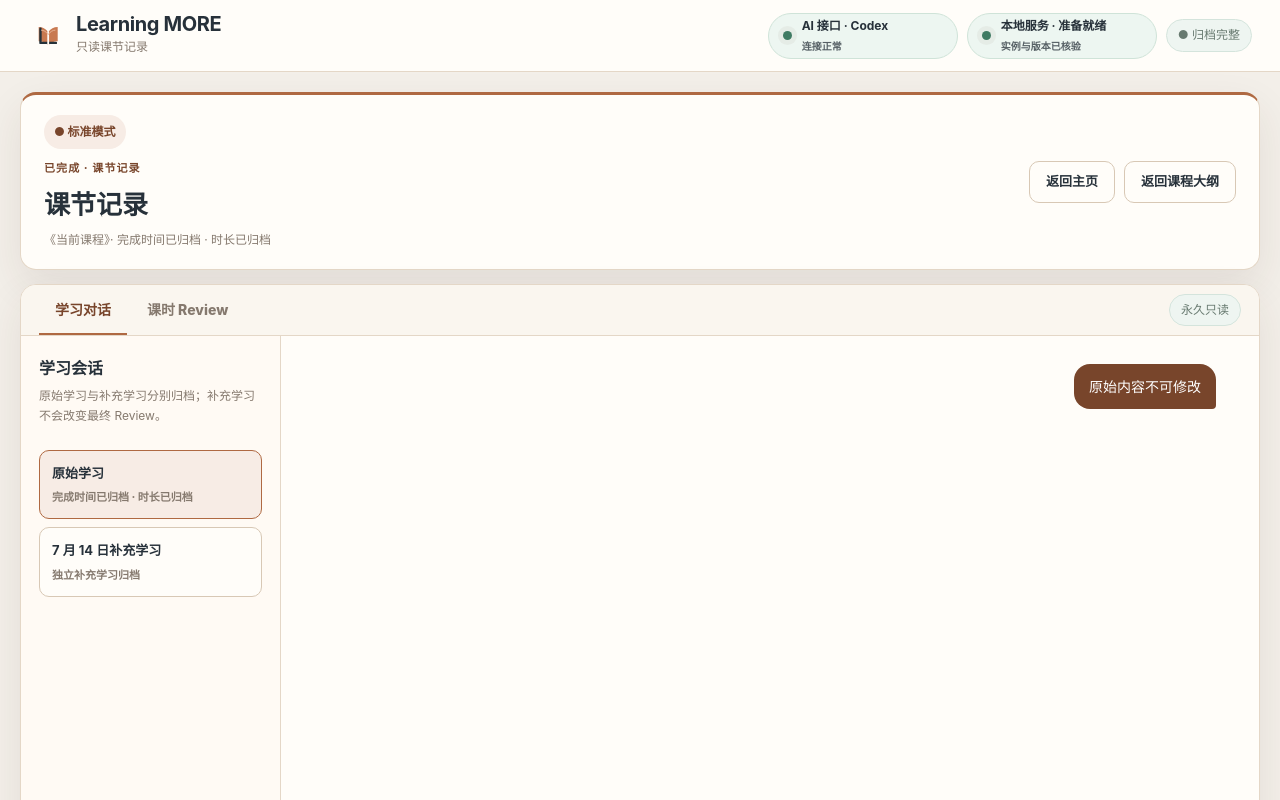
Test case: lesson history record › [EQ-HIS-04] switches between original learning dialogue and the authoritative Review using two top tabs
This screenshot has width=1280, height=800.
Step 1. Click the tab "课时 Review" → click(188, 310), box [131, 285, 244, 334]
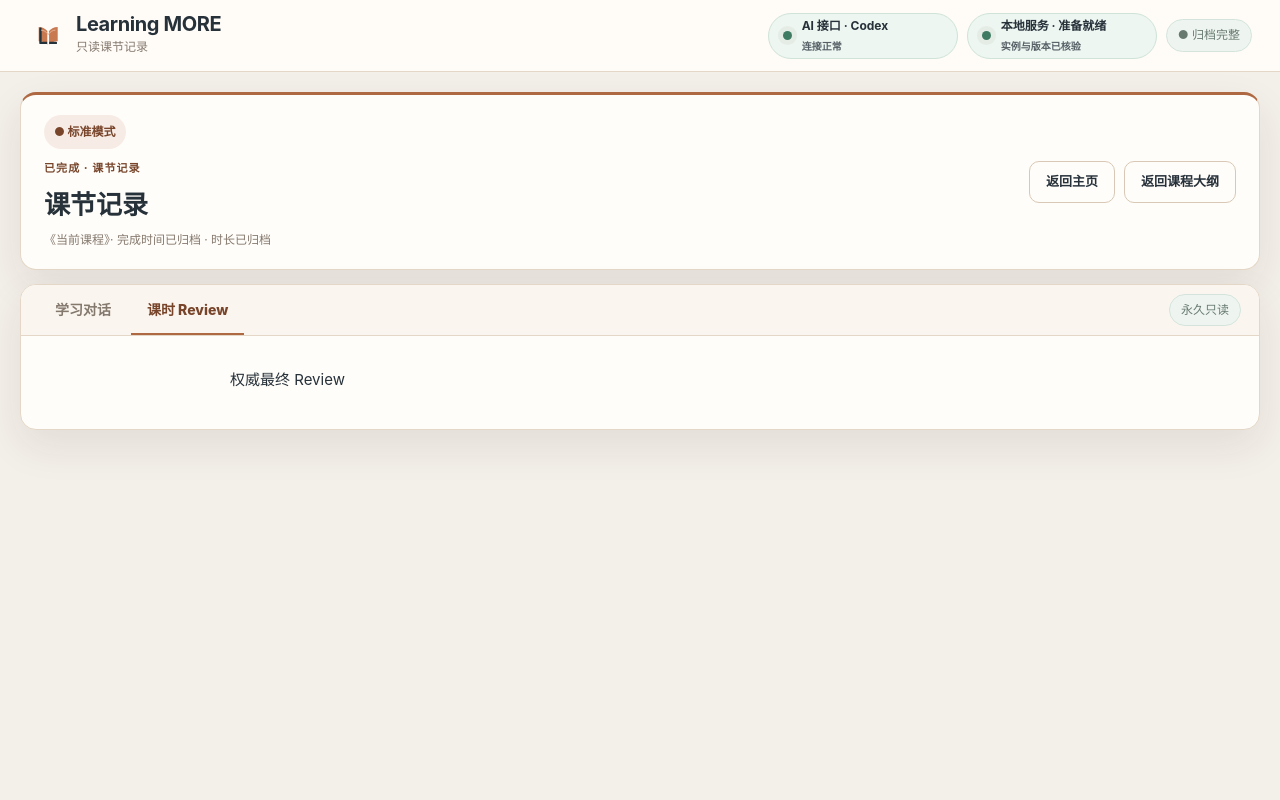
Expected: the element named "权威课时 Review" reads "权威最终 Review", [230, 370, 345, 388]
